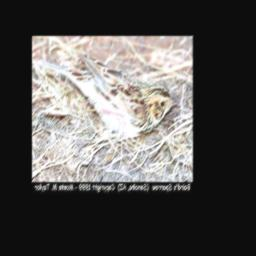Sparrow: (40, 51, 179, 139)
